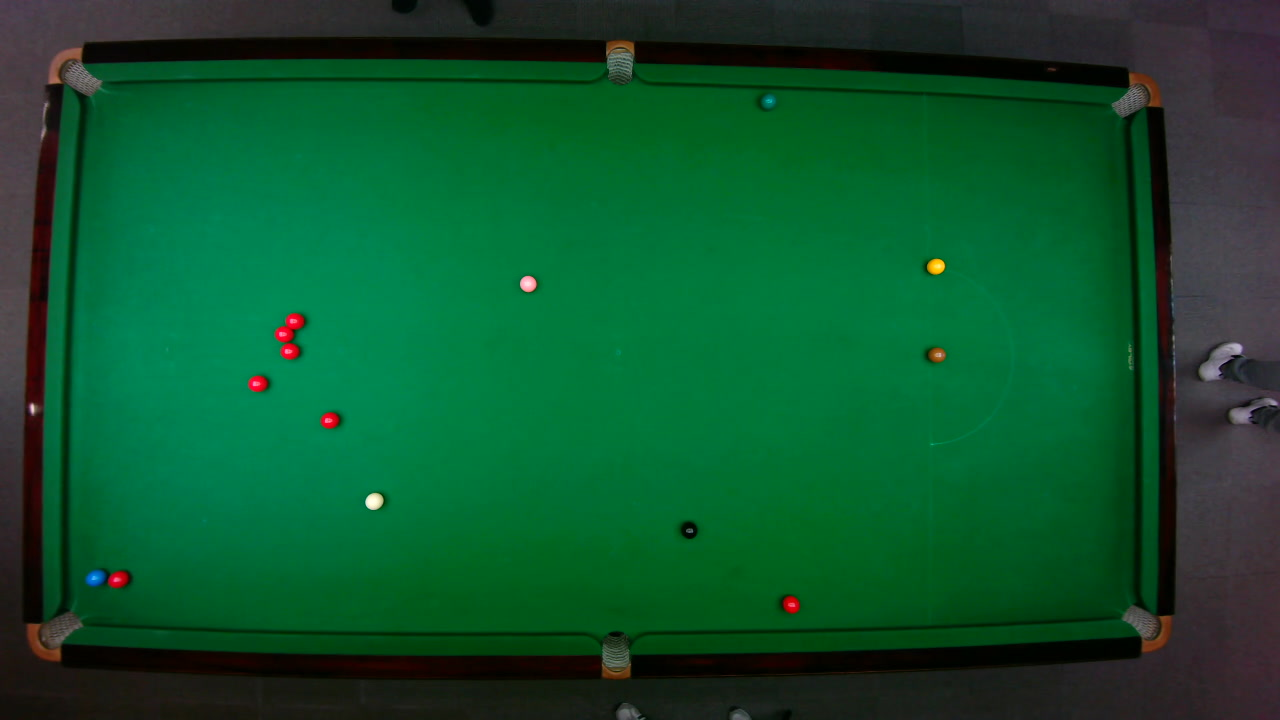bag: (25, 609, 84, 661), (46, 46, 102, 96), (1119, 603, 1172, 652), (1108, 71, 1162, 118), (600, 629, 629, 680), (605, 38, 633, 85)
black: (679, 521, 697, 539)
blue: (84, 567, 106, 586)
brown: (926, 346, 946, 362)
green: (758, 92, 776, 110)
pink: (518, 274, 537, 292)
red: (105, 568, 130, 588), (318, 410, 340, 429), (246, 374, 269, 392), (284, 311, 305, 330), (781, 594, 800, 614), (273, 324, 293, 342), (279, 342, 300, 359)
white: (363, 491, 384, 510)
yellow: (925, 257, 945, 274)
zone: (927, 265, 1013, 445)
